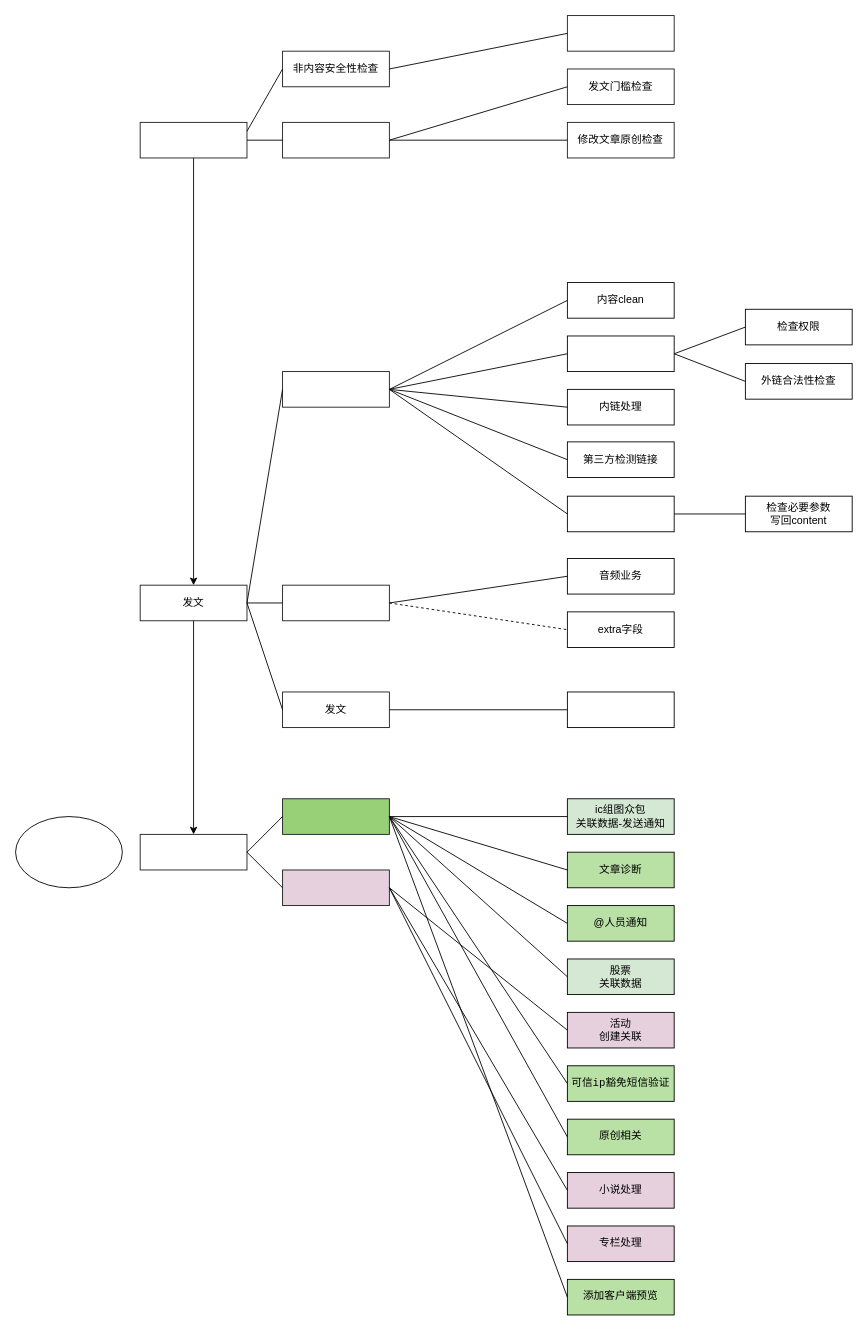
Some shapes in this 868 by 1331 pixel diagram are drawn without their labels. Here are the shapes that lost their labels. From the top down, the centre of each, then its label:
point (620, 33): 可信浏览器检查
point (193, 139): 发文前
point (335, 139): 权限检查
point (620, 353): 外链检查
point (335, 389): 合法/安全性检查
point (620, 513): 图片处理
point (335, 602): 特殊业务处理
point (620, 709): 调用发文服务 目前只有goarticle
point (335, 816): 通用
point (68, 852): 弱依赖，不影响发文成功
point (193, 851): 发文后
point (335, 887): 业务相关
